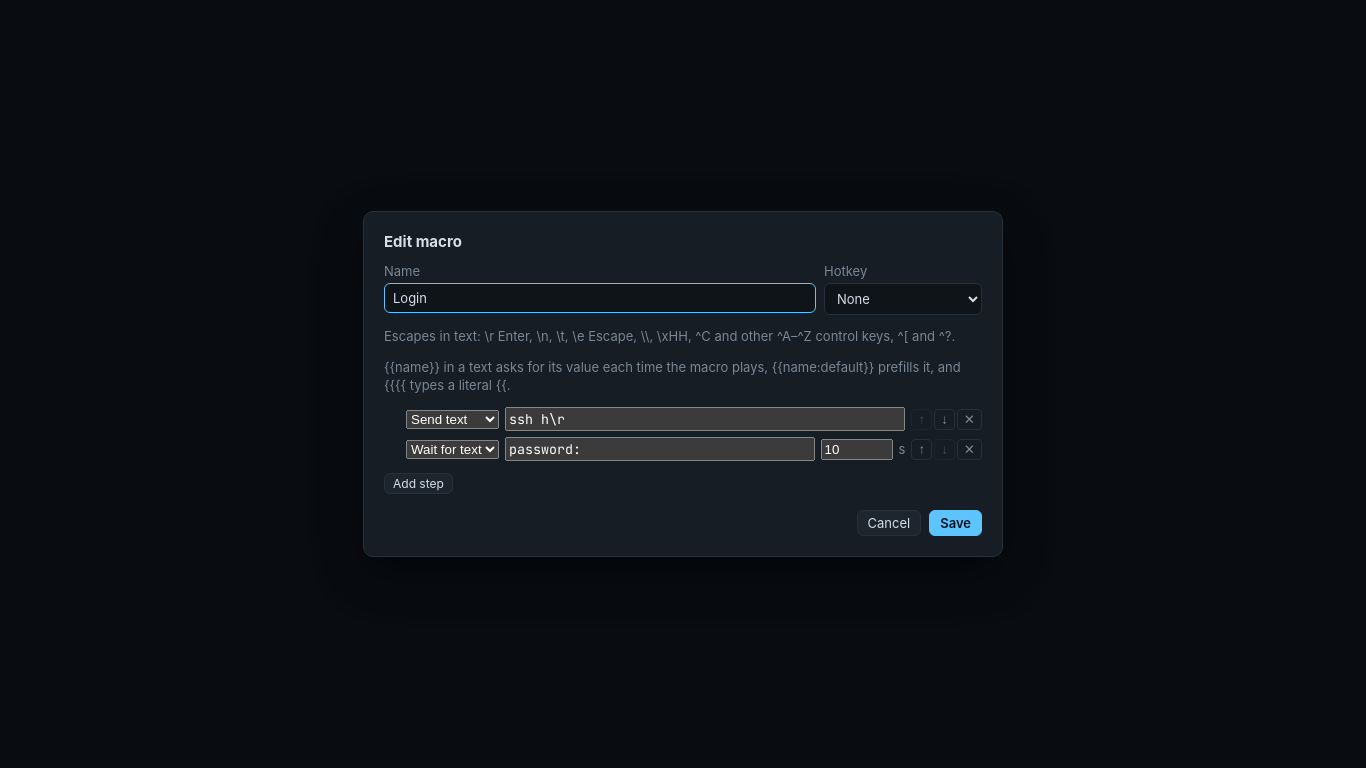
MacroEditDialog (S16.4) › shows validation errors instead of saving
The width and height of the screenshot is (1366, 768).
Clear the field labelled "Name": coordinates (600, 298) left=384, top=283, right=816, bottom=313
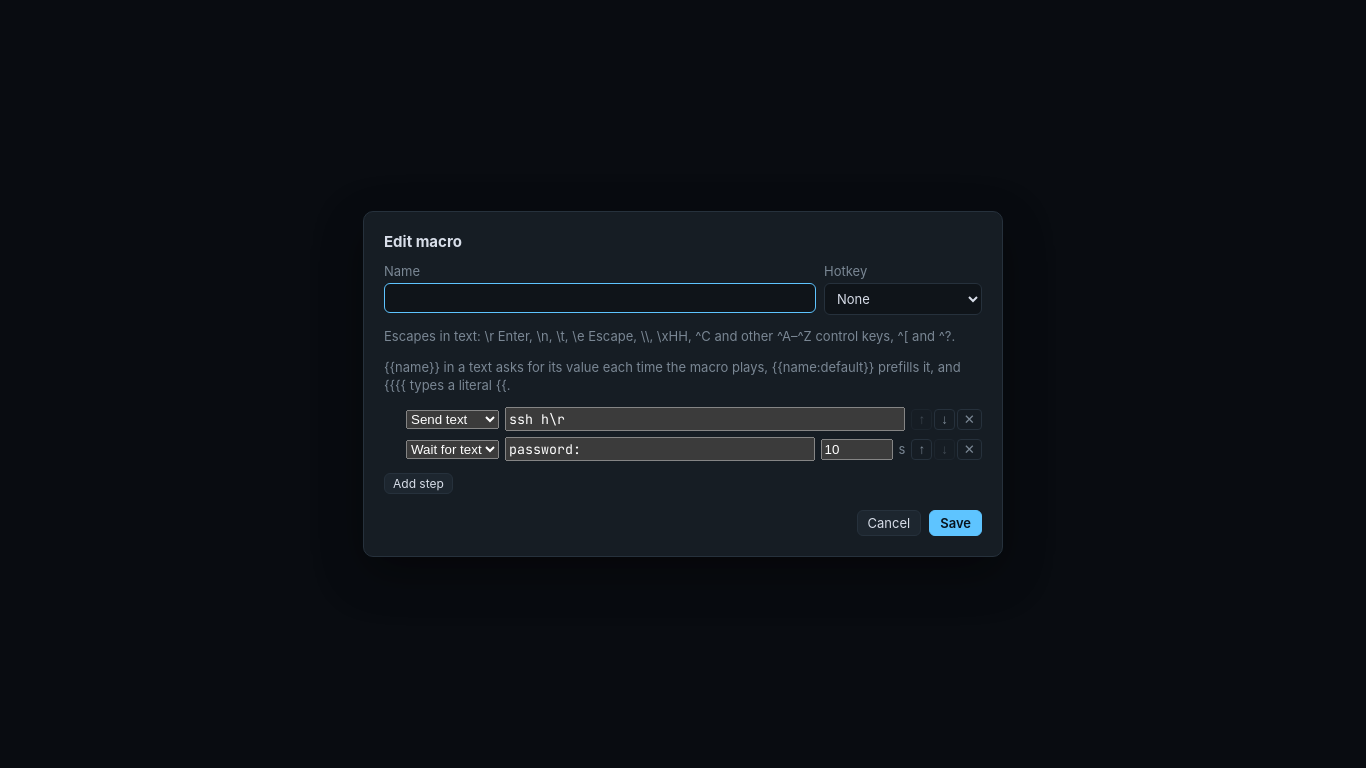
Click the button "Save": coordinates (956, 523) left=929, top=510, right=982, bottom=536
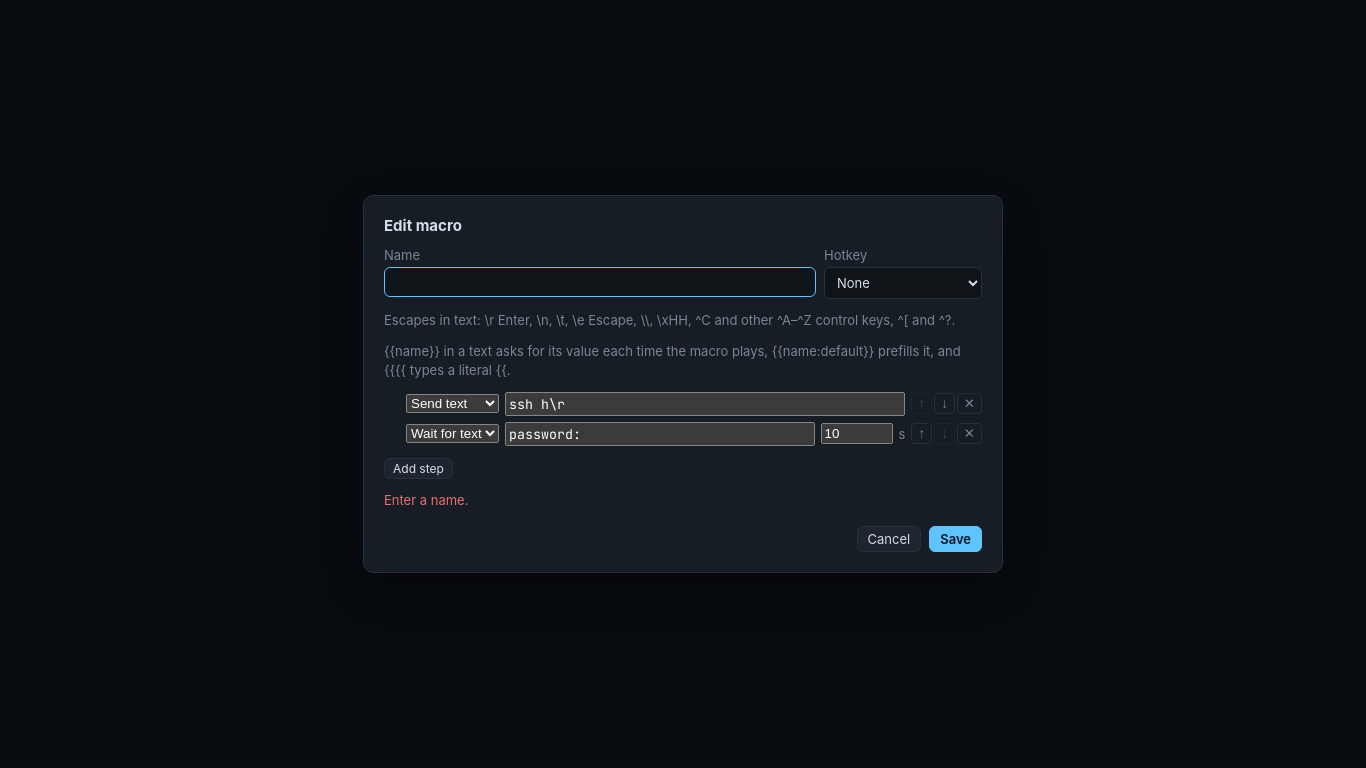
expect the message reads "Enter a name.": met, box left=384, top=492, right=468, bottom=508
